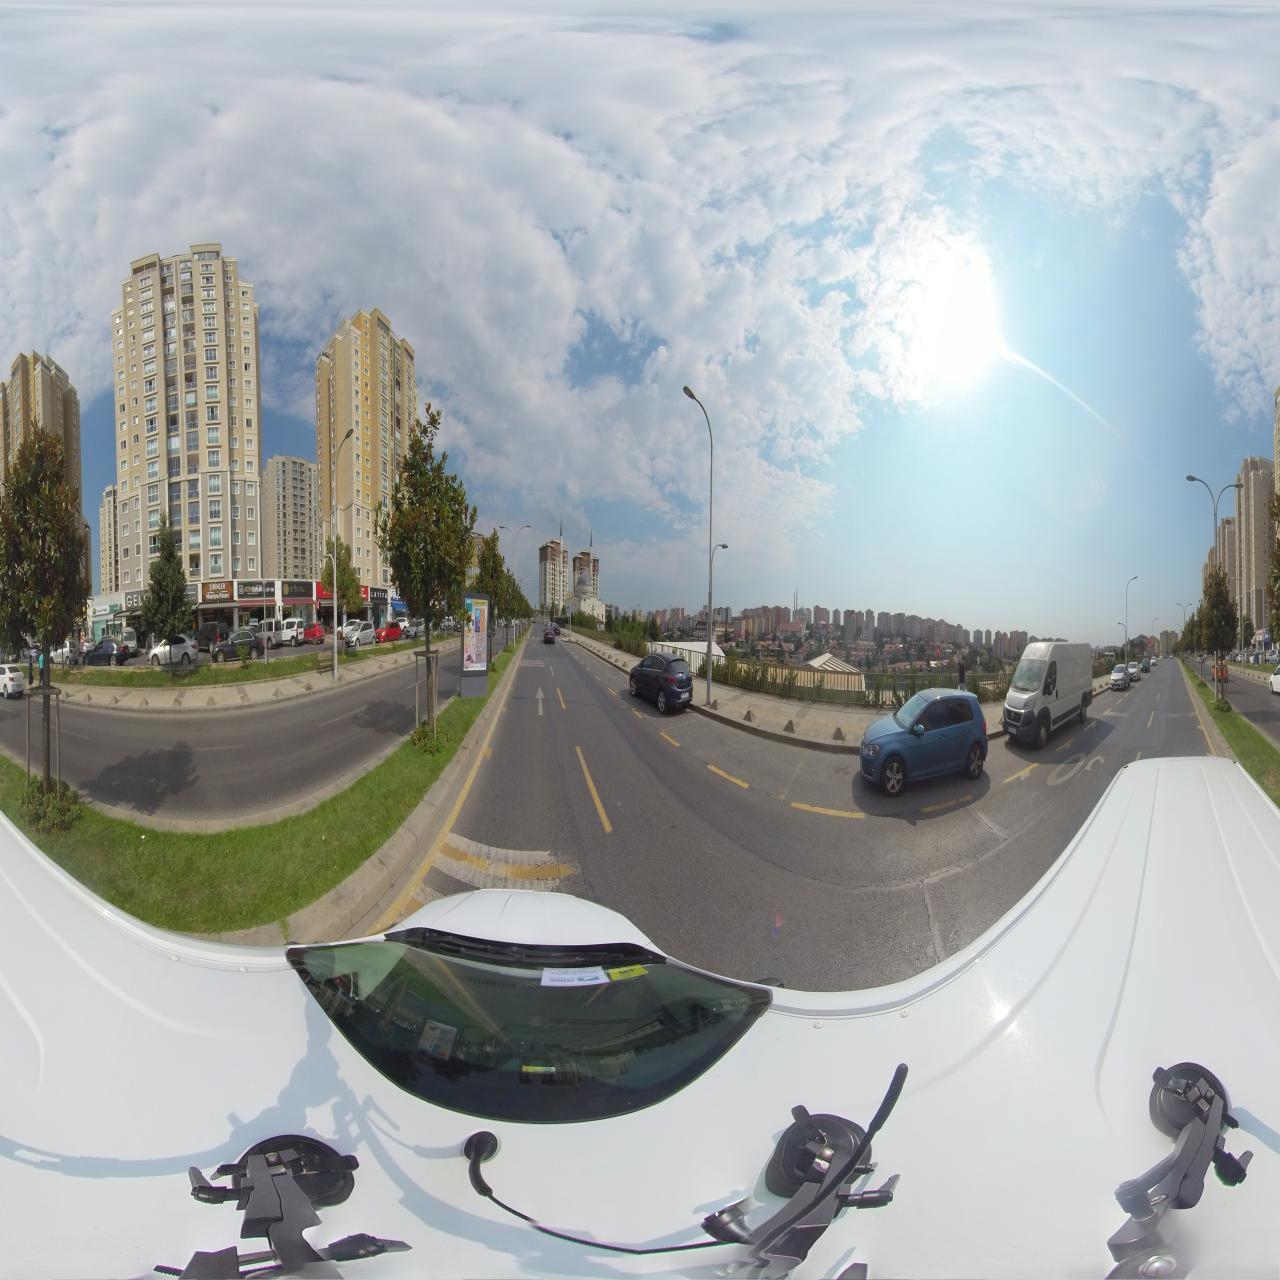SignStore: (238, 581, 275, 598), (203, 583, 233, 600), (282, 581, 312, 598), (93, 604, 120, 615), (125, 591, 142, 608), (370, 588, 388, 601)
